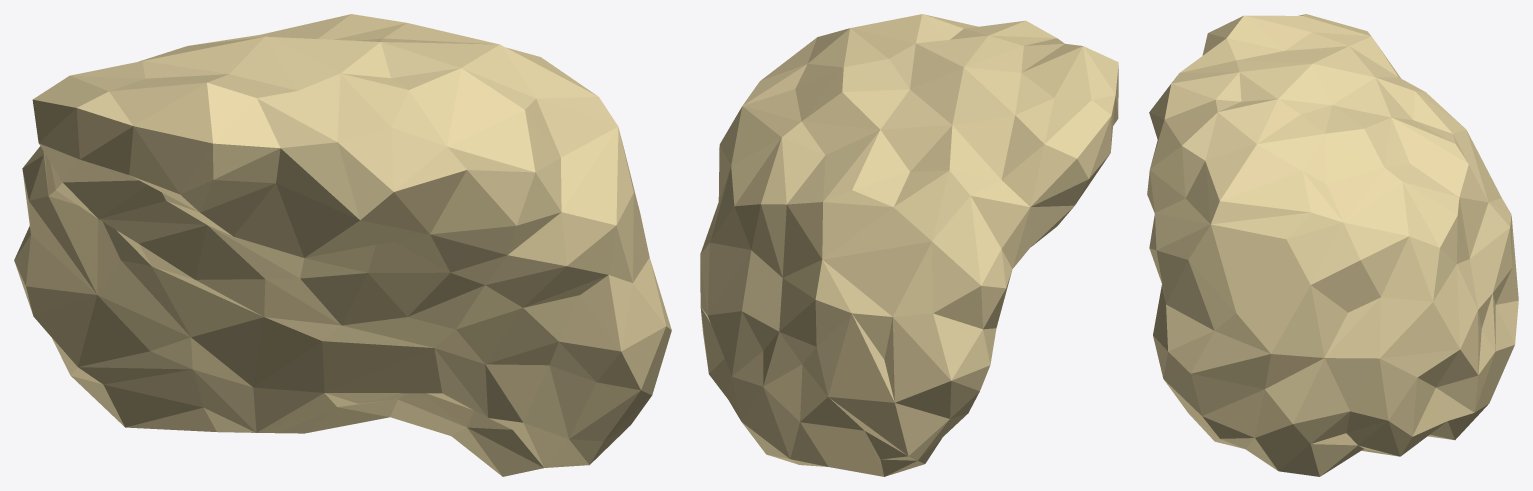
File: Asteroid (53).fbx
The picture shows the model from 3 angles, left to right: view 1: azimuth 30°, elevation 25°; view 2: azimuth 150°, elevation 25°; view 3: azimuth 270°, elevation 25°; orthographic projection. The views are drawn at different scales.
Visible parts, largest first — view 1: Asteroid163; view 2: Asteroid163; view 3: Asteroid163.
Part boxes in pixels (bbox=[...]): Asteroid163: bbox=[14, 14, 671, 476]; Asteroid163: bbox=[700, 14, 1118, 476]; Asteroid163: bbox=[1147, 14, 1518, 476].
Size of the model in its own units: 444 by 401 by 395.
